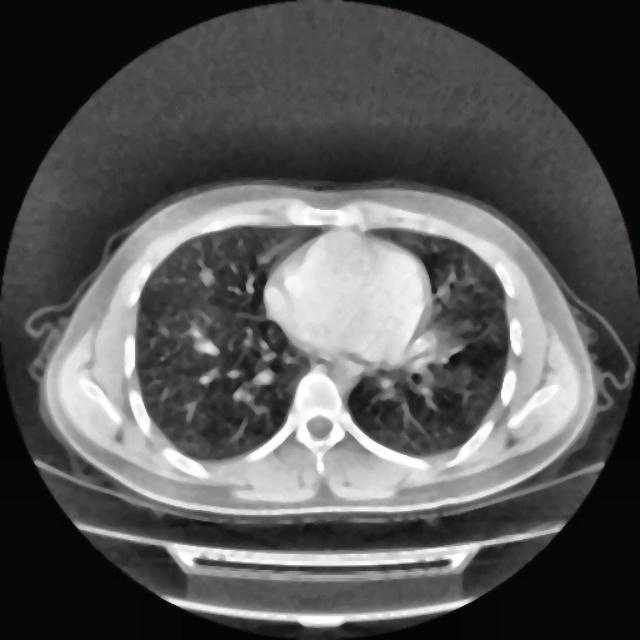covid: (32, 177, 598, 523)
